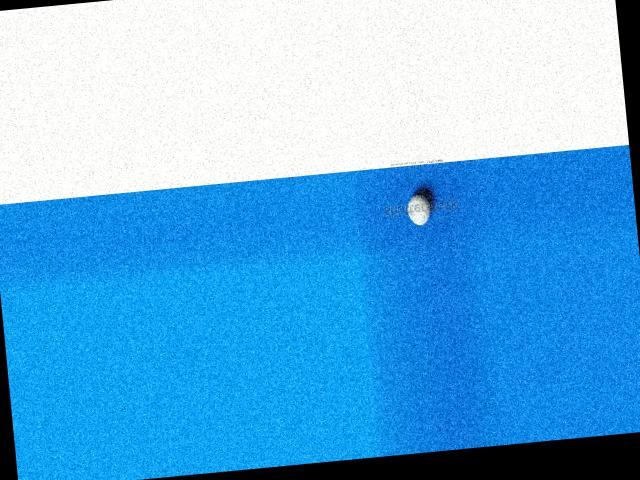egg: (407, 193, 432, 226)
